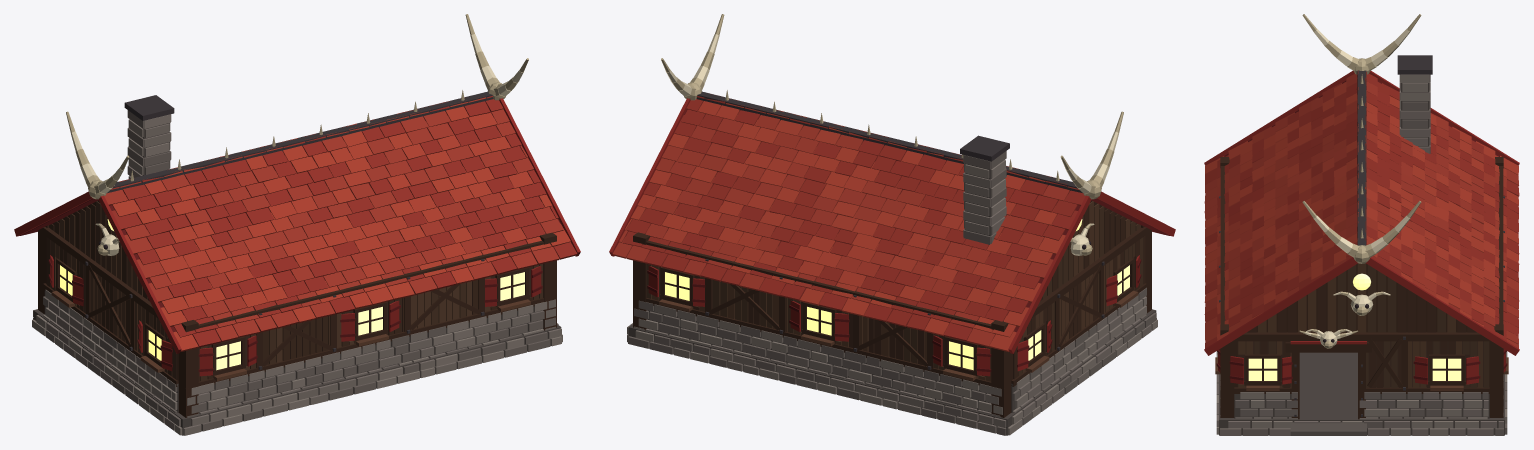
The model's file is house_workshop-DizOAfBl.glb.
3 views of the same model, side by side, from view 1: azimuth 30°, elevation 25°; view 2: azimuth 150°, elevation 25°; view 3: azimuth 270°, elevation 25° (orthographic). The views are drawn at different scales.
Visible parts, largest first — view 1: workshop_roof, workshop_S_hi, workshop_S_lo, workshop_base, workshop_W_hi, workshop_W_lo; view 2: workshop_roof, workshop_N_hi, workshop_N_lo, workshop_base, workshop_W_hi, workshop_W_lo; view 3: workshop_roof, workshop_E_hi, workshop_base, workshop_E_lo, workshop_N_hi, workshop_S_hi, workshop_N_lo, workshop_S_lo.
Boxes of the visible parts, left/top/right/bottom form: workshop_roof: left=14, top=14, right=580, bottom=353; workshop_S_hi: left=178, top=232, right=556, bottom=388; workshop_S_lo: left=178, top=298, right=556, bottom=417; workshop_base: left=32, top=309, right=562, bottom=435; workshop_W_hi: left=43, top=227, right=178, bottom=383; workshop_W_lo: left=43, top=287, right=178, bottom=412; workshop_roof: left=609, top=14, right=1175, bottom=353; workshop_N_hi: left=633, top=232, right=1012, bottom=388; workshop_N_lo: left=633, top=298, right=1011, bottom=417; workshop_base: left=627, top=309, right=1157, bottom=435; workshop_W_hi: left=1011, top=227, right=1146, bottom=383; workshop_W_lo: left=1011, top=287, right=1146, bottom=412; workshop_roof: left=1204, top=14, right=1519, bottom=355; workshop_E_hi: left=1229, top=329, right=1489, bottom=391; workshop_base: left=1216, top=351, right=1507, bottom=435; workshop_E_lo: left=1234, top=391, right=1489, bottom=419; workshop_N_hi: left=1489, top=157, right=1508, bottom=389; workshop_S_hi: left=1215, top=157, right=1237, bottom=389; workshop_N_lo: left=1489, top=374, right=1503, bottom=417; workshop_S_lo: left=1220, top=374, right=1234, bottom=417.
Bounding box in the file's own units: 13.91 × 7.96 × 9.49.
